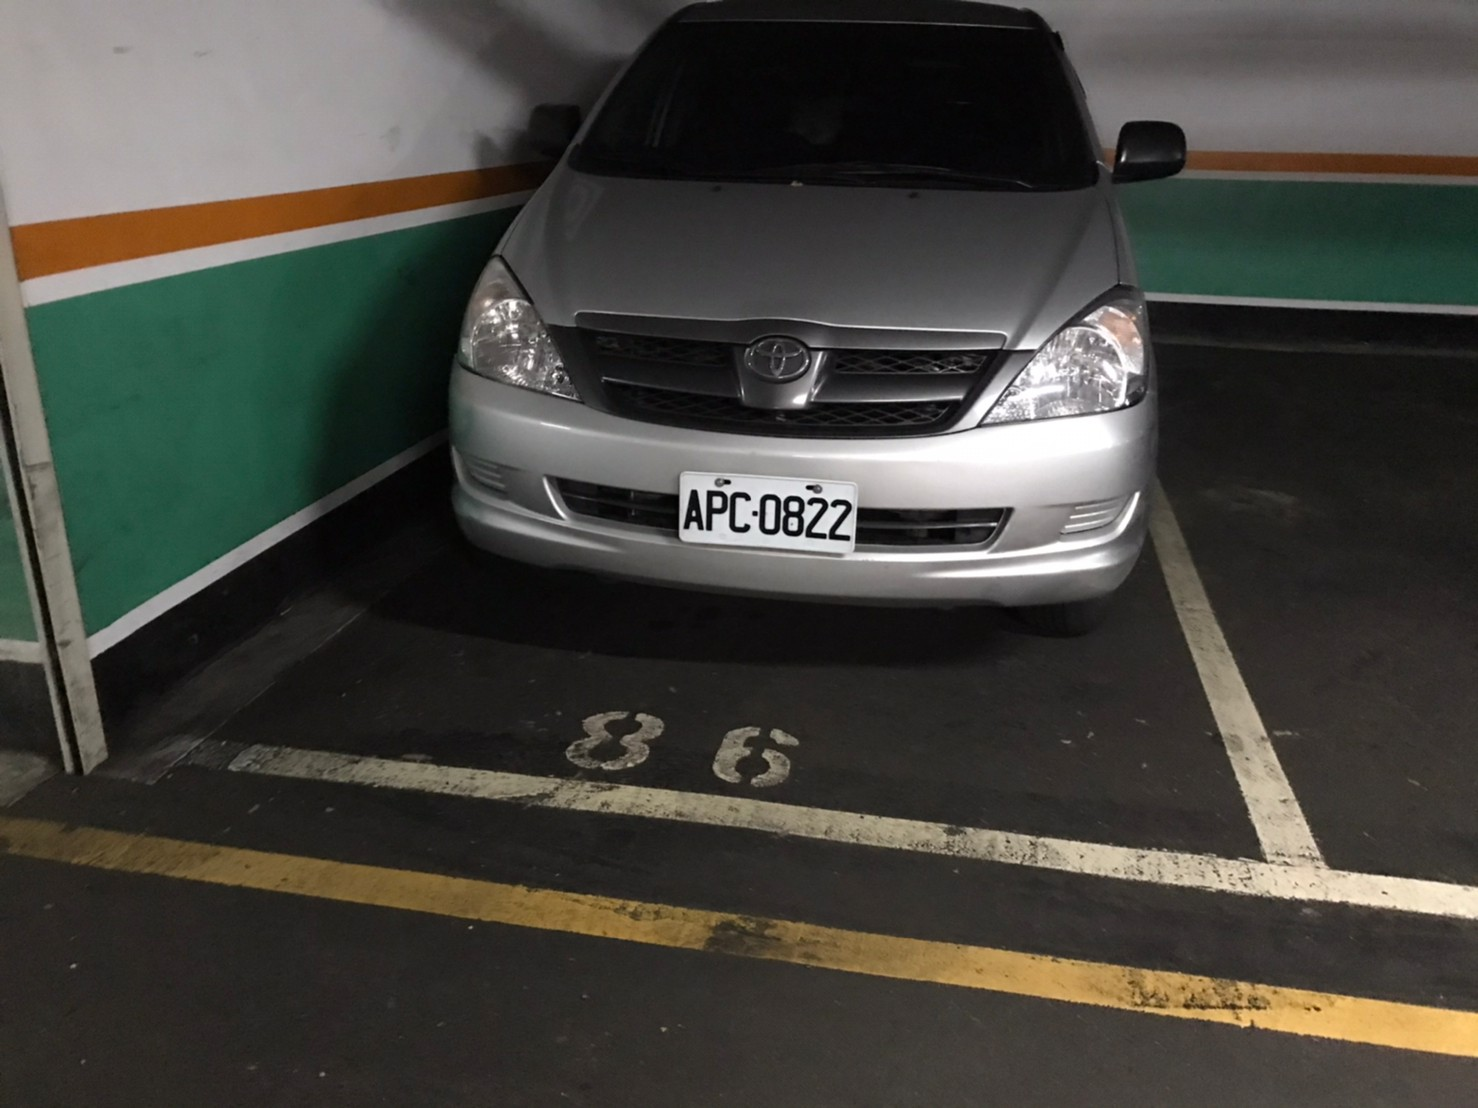LP: (675, 466, 864, 560)
